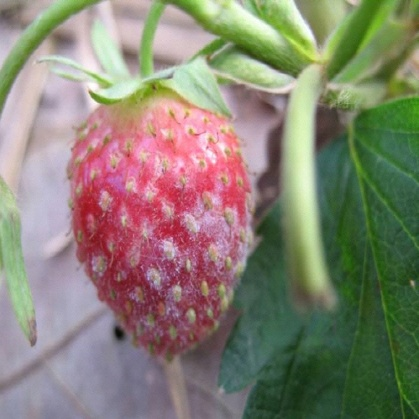Powdery_Fruit: (139, 72, 354, 362)
